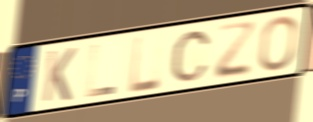C: (170, 29, 213, 84)
K: (41, 46, 79, 105)
L: (128, 33, 162, 95), (85, 42, 117, 100)
O: (257, 13, 300, 73)
Z: (212, 20, 258, 81)
